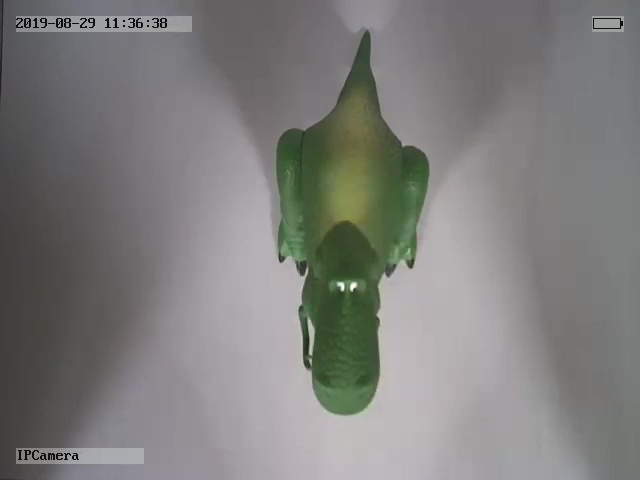rex: (273, 29, 430, 419)
